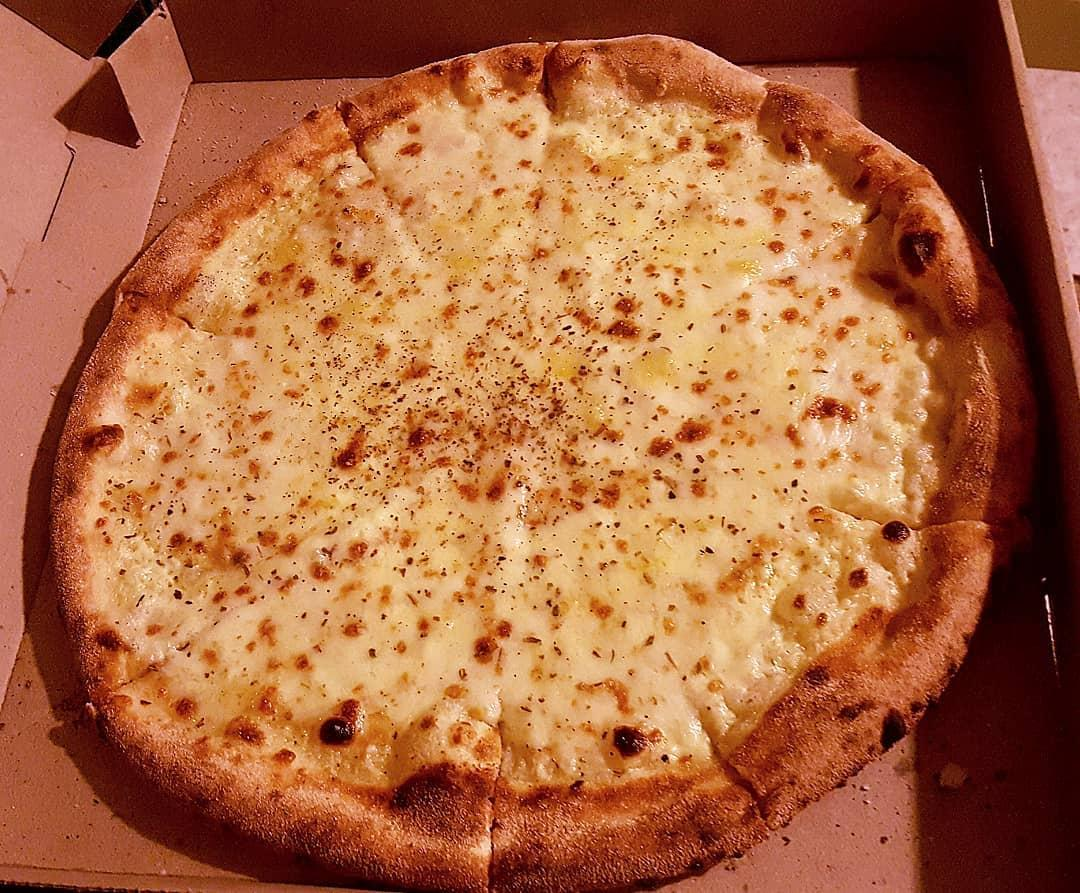Cheese: (300, 215, 783, 666)
Pizza: (32, 21, 1043, 893)
